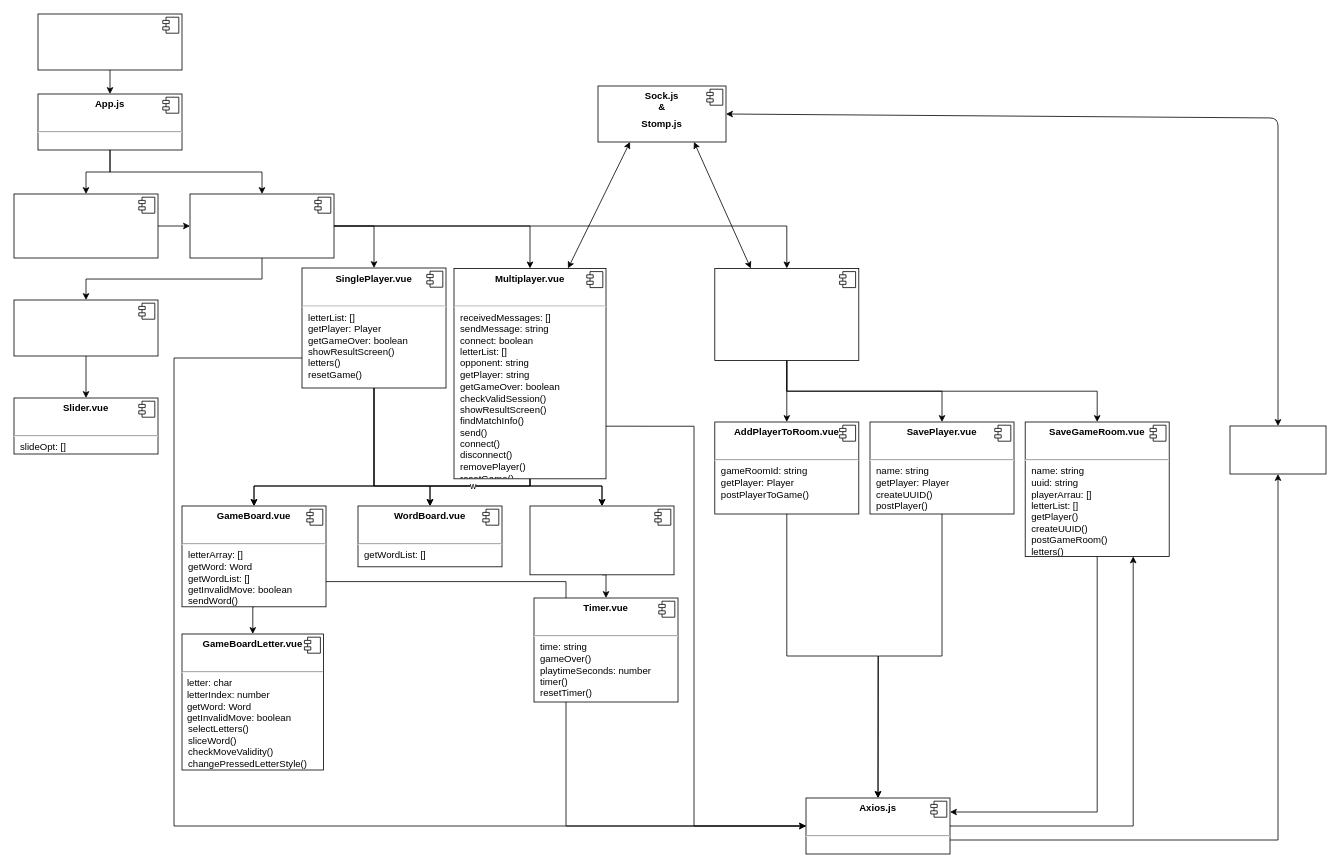
Some shapes in this 1340 by 868 pixel diagram are drawn without their labels. Here are the shapes that lost their labels. From the top down, the box of each, then its label:
(37, 13, 182, 70): main.js
(13, 193, 158, 258): navBar.vue dropDown()
(189, 193, 334, 258): router.js
(13, 299, 158, 356): Home.vue
(714, 268, 859, 360): Gamerooms.vue receivedMessages: [] connected: boolean connect() disconnect()
(1229, 425, 1326, 474): Boggle API
(529, 505, 674, 575): InformationBoard.vue getWordList: [] getInvalidMove: boolean
